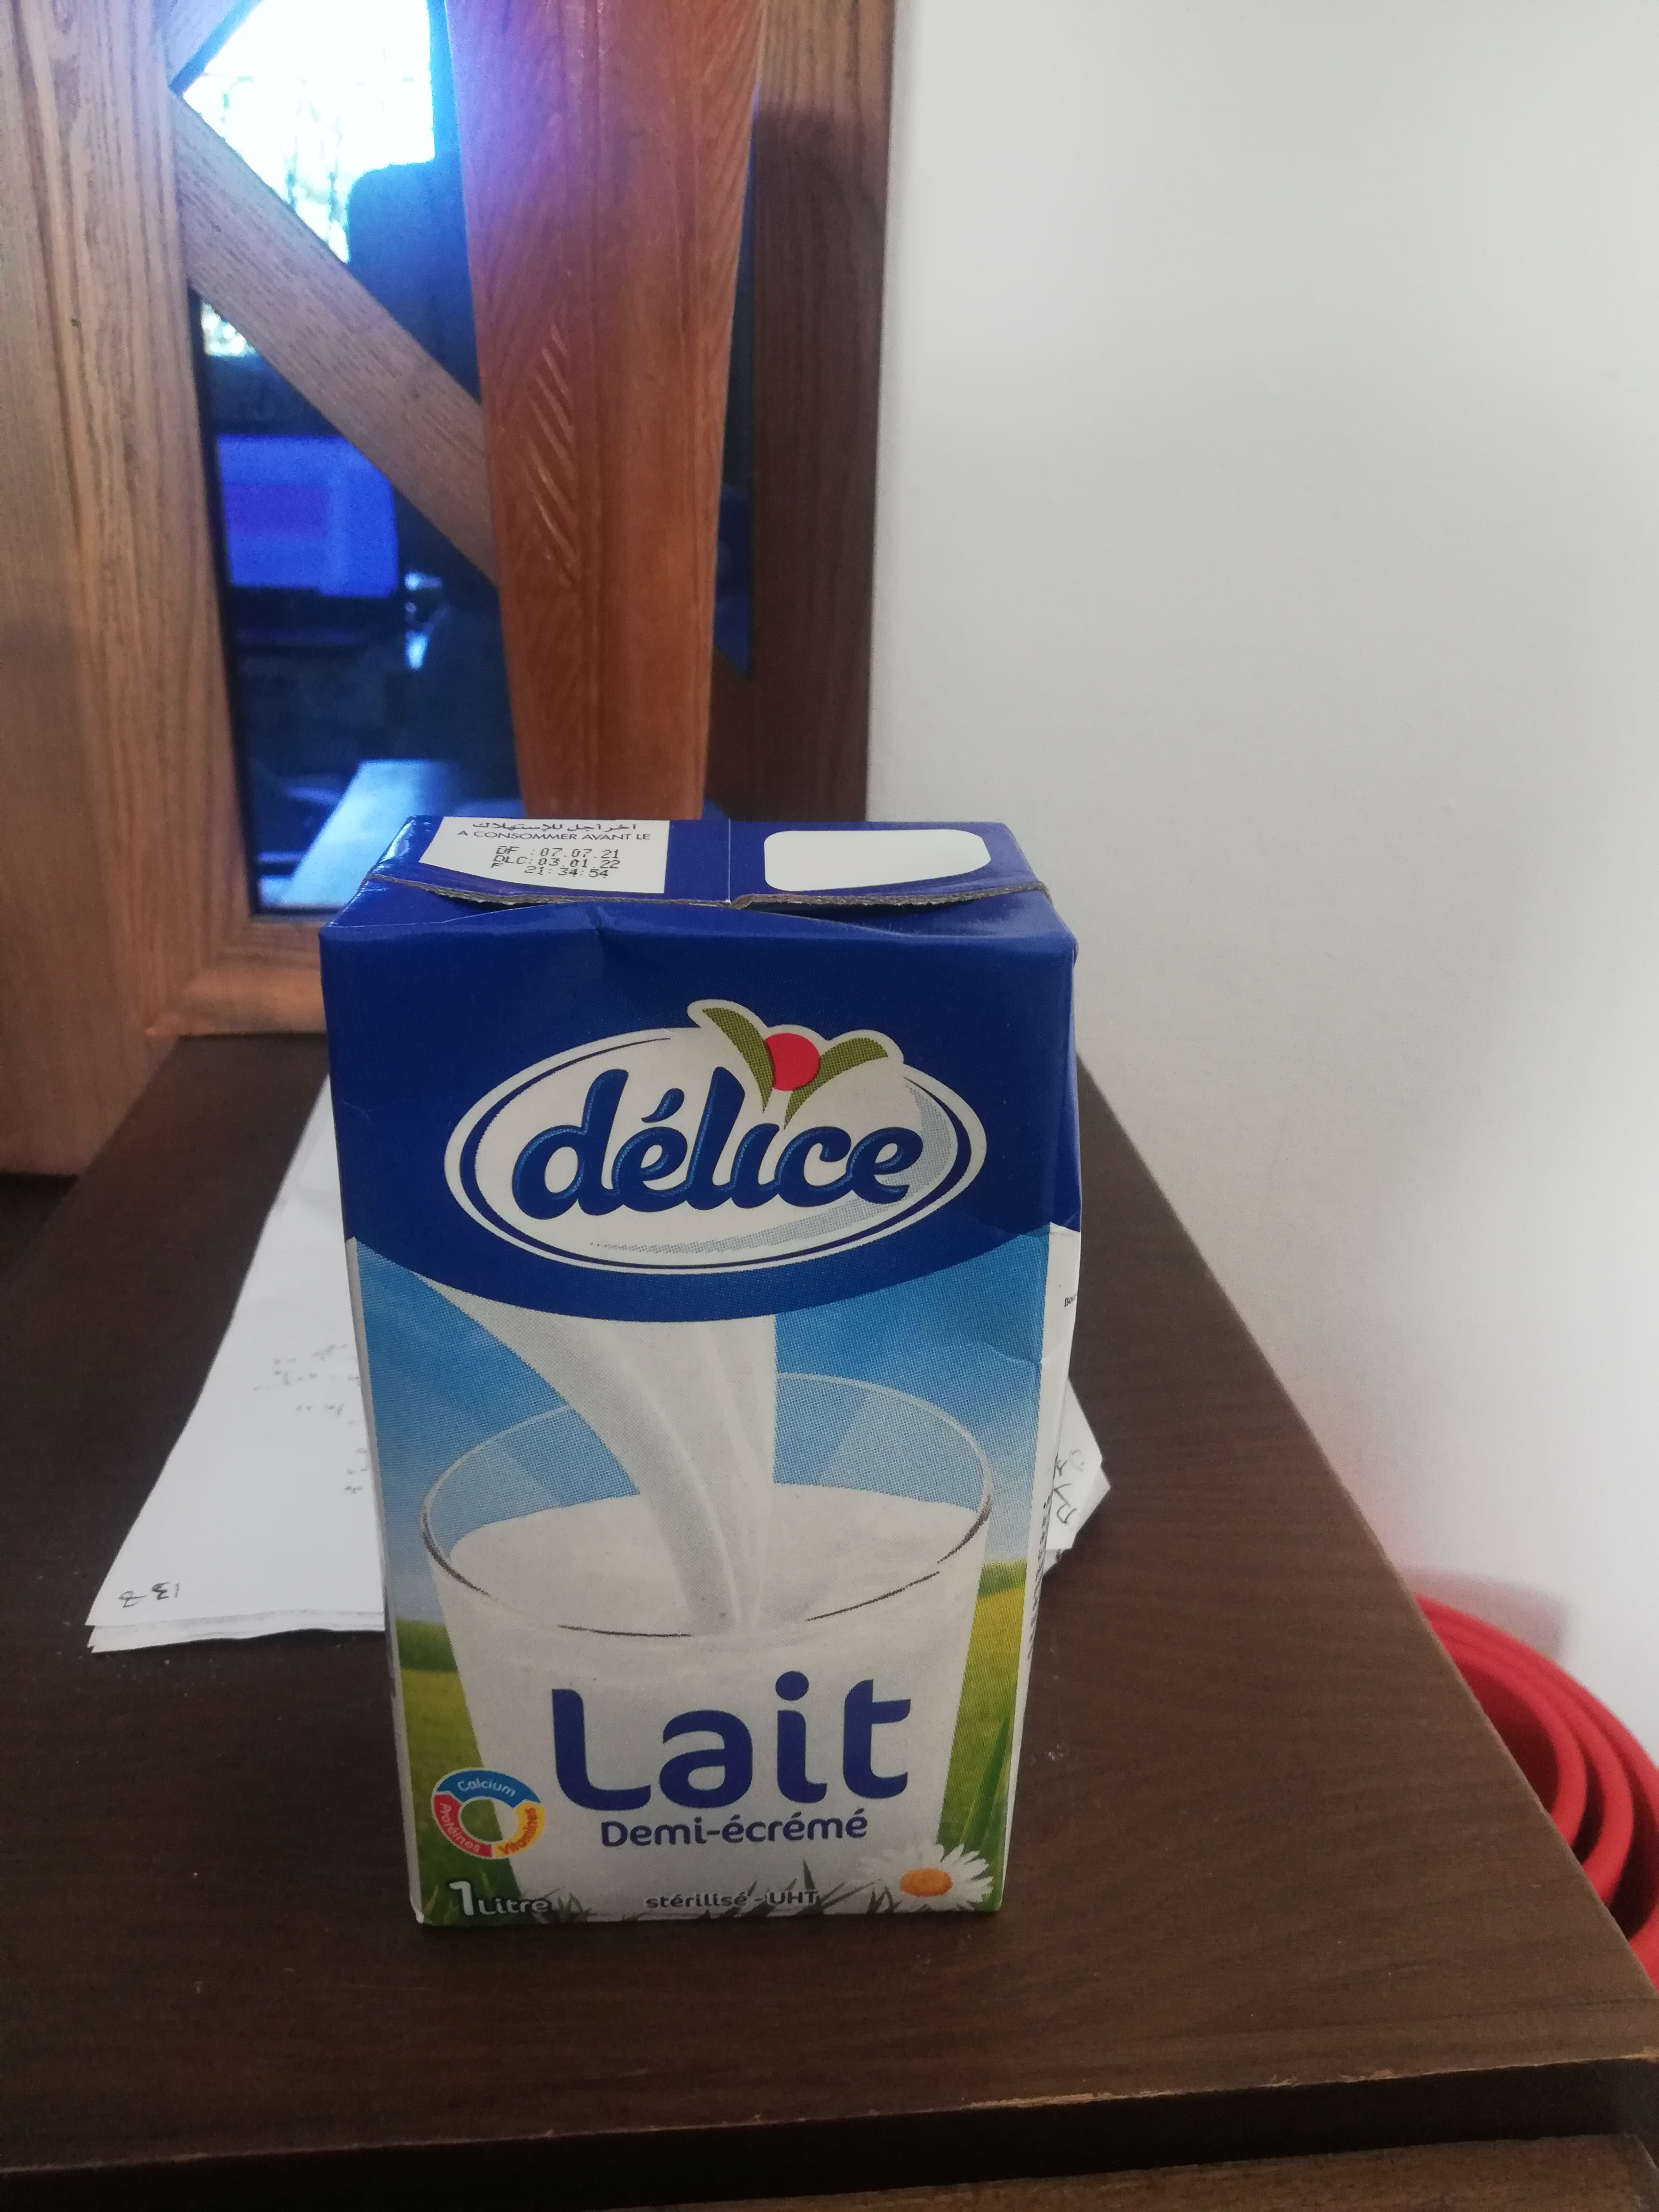Lait delice: (319, 813, 1073, 1935)
